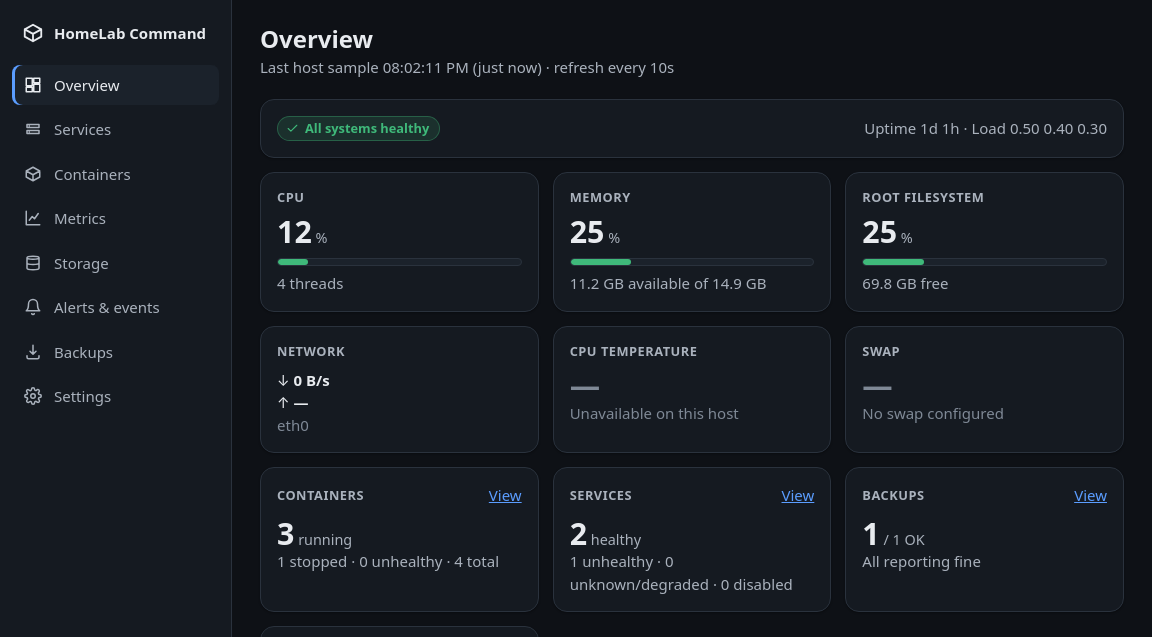
Test: App › restores the session from the refresh cookie, renders navigation and navigates
Expected: the heading "Overview" is shown, top-left (260, 22), bottom-right (373, 55)
Expected: the navigation bar named "Main" shows "Overview", top-left (12, 64), bottom-right (219, 105)
What coordinates should you click on to do the following:
click the link "Services"
I would click on:
 (68, 129)
Its box is top-left (24, 119), bottom-right (111, 139).
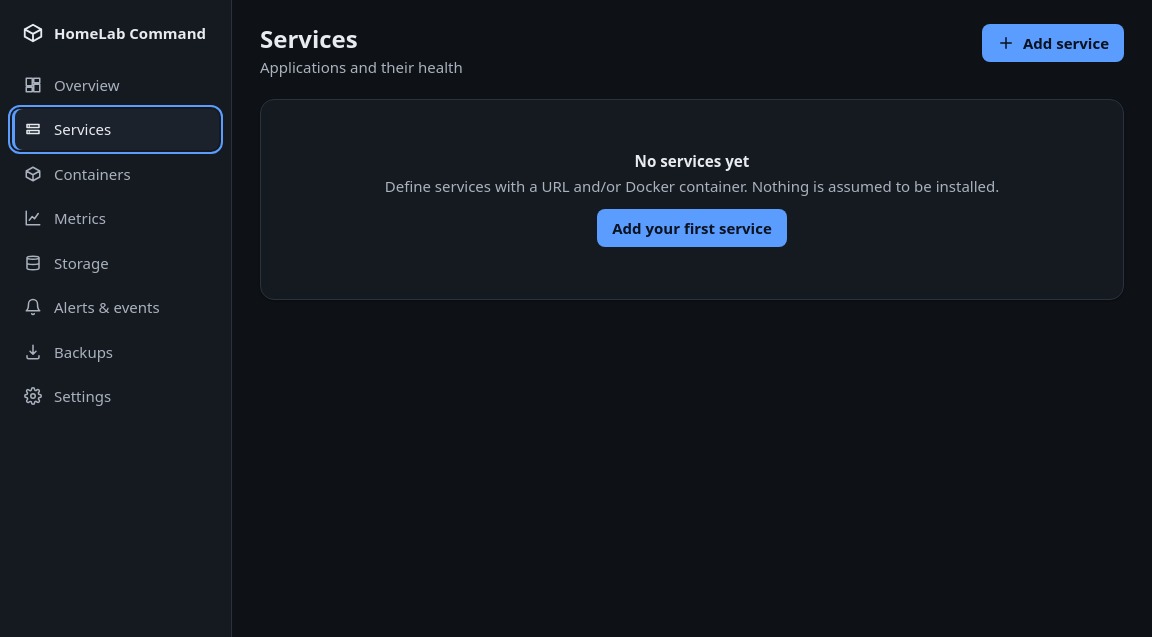
Expected: the heading "Services" is shown, top-left (260, 22), bottom-right (358, 55)
